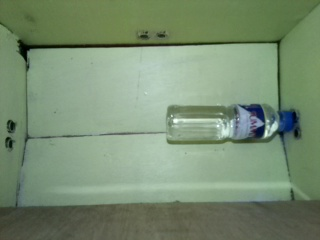bottle: (165, 103, 293, 143)
